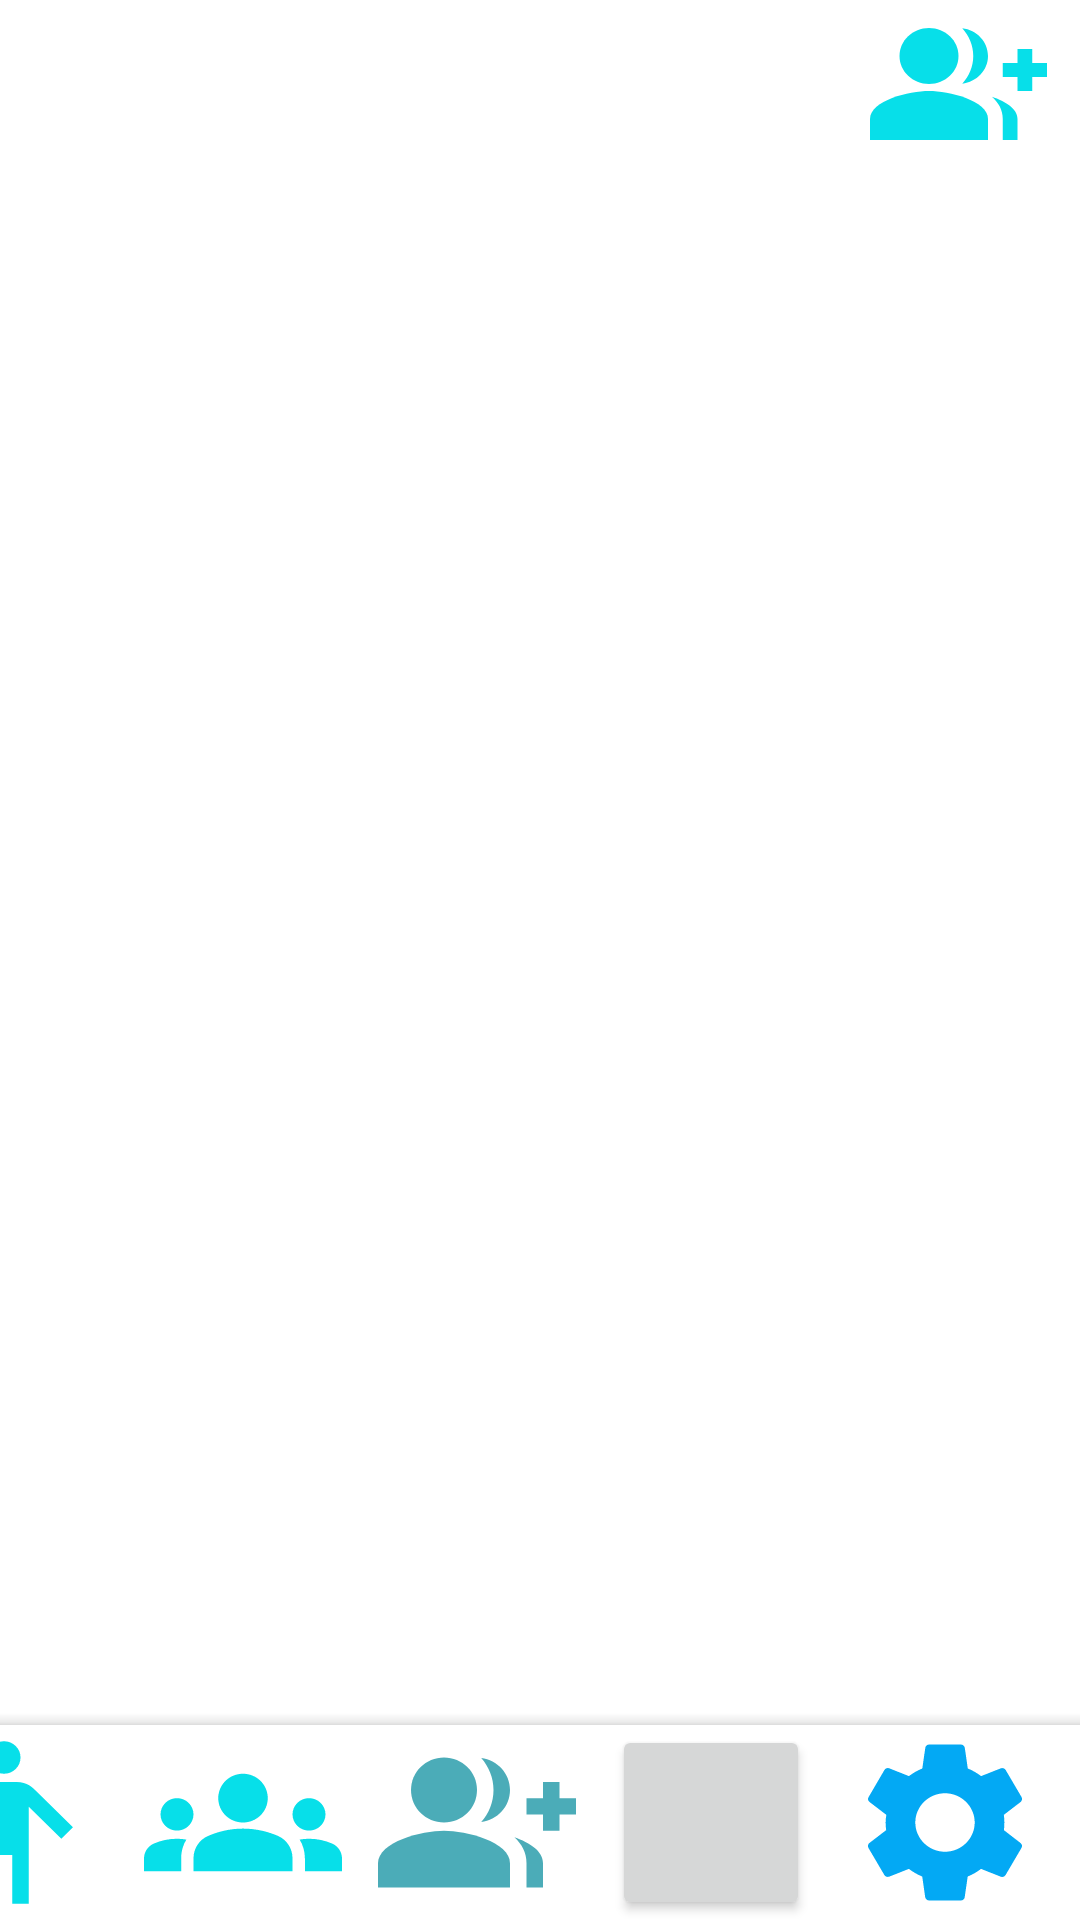

Named icons in this screenshot (1080px×1920px) and their bounding boxes, (x1,y1,x2,y2):
group add: (870,28,1047,140), (378,1757,576,1888)
groups: (144,1773,342,1872)
settings: (868,1744,1022,1901)
